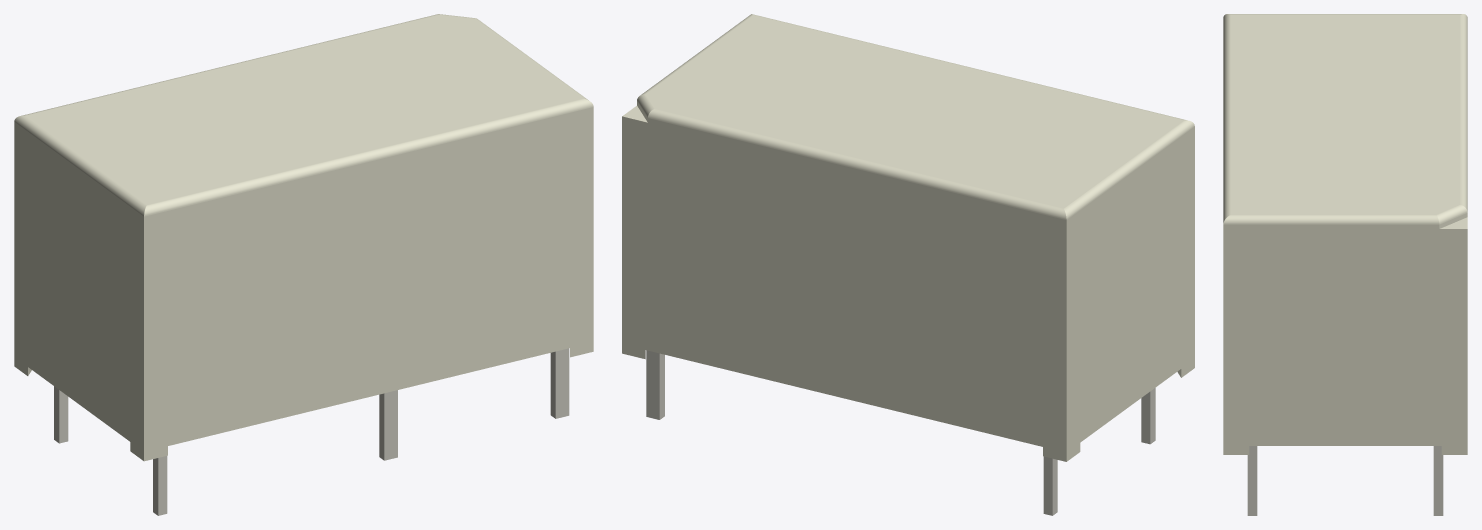
File: kc-relay_spdt_finder_32.21-x000.glb
3 views of the same model, side by side, from view 1: azimuth 30°, elevation 25°; view 2: azimuth 150°, elevation 25°; view 3: azimuth 270°, elevation 25° (orthographic). The views are drawn at different scales.
Parts seen in each view (by area): view 1: 0.75_0.75_0.6666666666666666_0, 0.6666666666666666_0.6666666666666666_0.5833333333333334_0.8; view 2: 0.75_0.75_0.6666666666666666_0, 0.6666666666666666_0.6666666666666666_0.5833333333333334_0.8; view 3: 0.75_0.75_0.6666666666666666_0, 0.6666666666666666_0.6666666666666666_0.5833333333333334_0.8.
Boxes of the visible parts, box(x1,y1,x2,y2) form: 0.75_0.75_0.6666666666666666_0: box(14, 14, 593, 461); 0.6666666666666666_0.6666666666666666_0.5833333333333334_0.8: box(54, 348, 569, 515); 0.75_0.75_0.6666666666666666_0: box(622, 14, 1194, 461); 0.6666666666666666_0.6666666666666666_0.5833333333333334_0.8: box(646, 350, 1155, 515); 0.75_0.75_0.6666666666666666_0: box(1223, 14, 1467, 454); 0.6666666666666666_0.6666666666666666_0.5833333333333334_0.8: box(1247, 446, 1443, 515).
Size of the model in its own units: 2 by 1.37 by 1.
